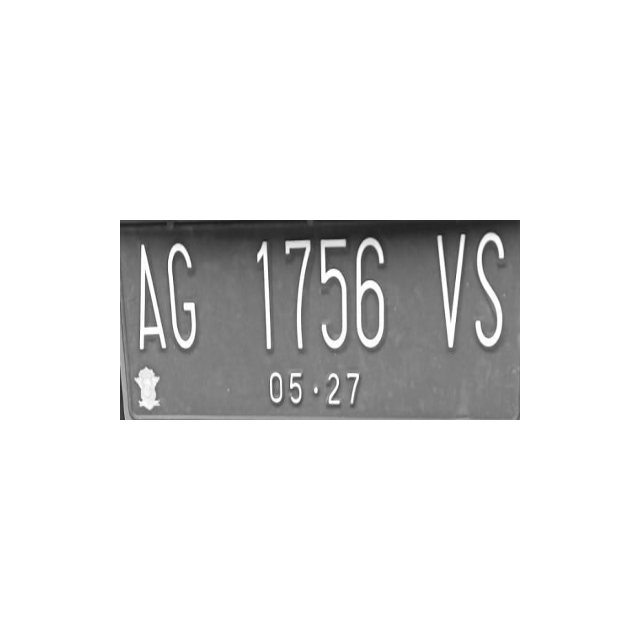contain: (277, 238, 312, 356), (314, 237, 349, 355), (352, 234, 387, 352), (432, 233, 467, 351), (471, 231, 506, 349), (132, 239, 168, 351), (164, 239, 200, 351), (239, 239, 275, 351)
